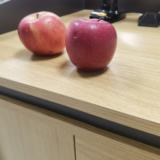apple: (66, 18, 117, 70), (19, 11, 68, 57)
